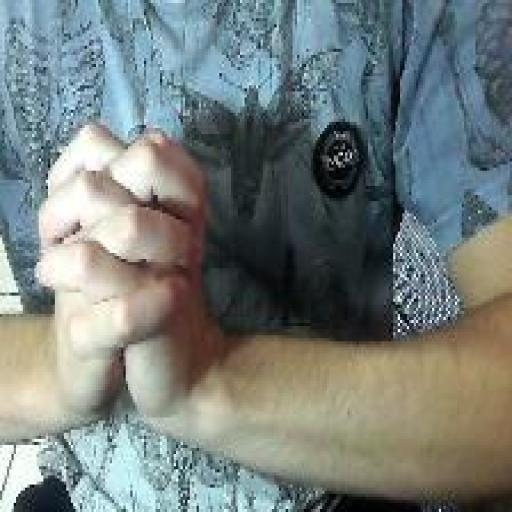Mi -snake-: (32, 113, 215, 448)
